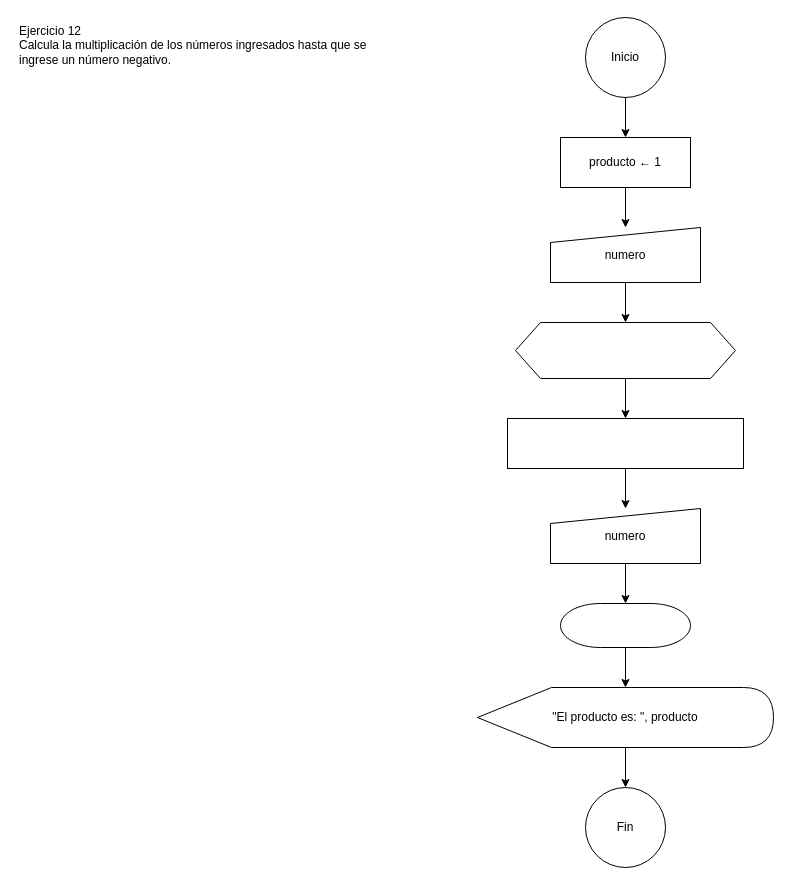
The diagram is 791 pixels wide and 885 high, and some of its shapes have lost their labels. Each missing label, with the centre of its shape:
Fin (MQ): point 625,625
MQ numero >= 0: point 625,350
producto ← producto * numero: point 625,443
